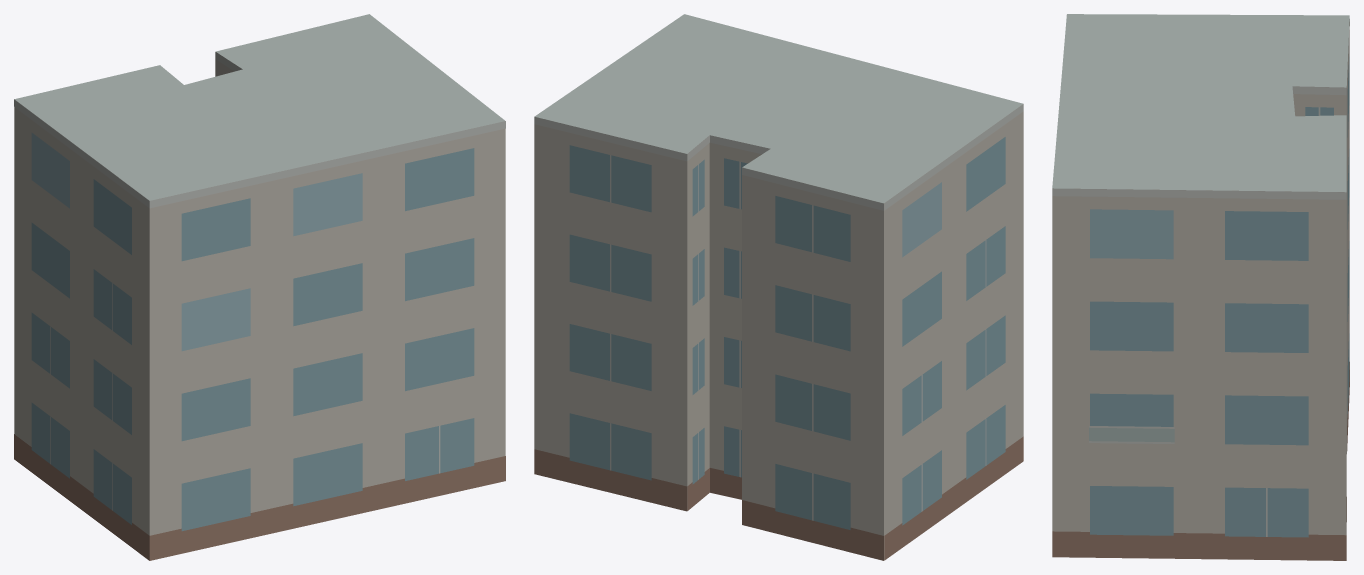
File: survey-upis-32568872.glb
The picture shows the model from 3 angles, left to right: view 1: azimuth 30°, elevation 25°; view 2: azimuth 150°, elevation 25°; view 3: azimuth 270°, elevation 25°; orthographic projection. The views are drawn at different scales.
Parts seen in each view (by area): view 1: survey-upis-32568872.tmp; view 2: survey-upis-32568872.tmp; view 3: survey-upis-32568872.tmp.
Boxes of the visible parts, box(x1,y1,x2,y2) form: survey-upis-32568872.tmp: box(14, 14, 505, 560); survey-upis-32568872.tmp: box(534, 14, 1023, 560); survey-upis-32568872.tmp: box(1052, 14, 1349, 560).
Bounding box in the file's own units: 12.13 × 11.7 × 8.57.
